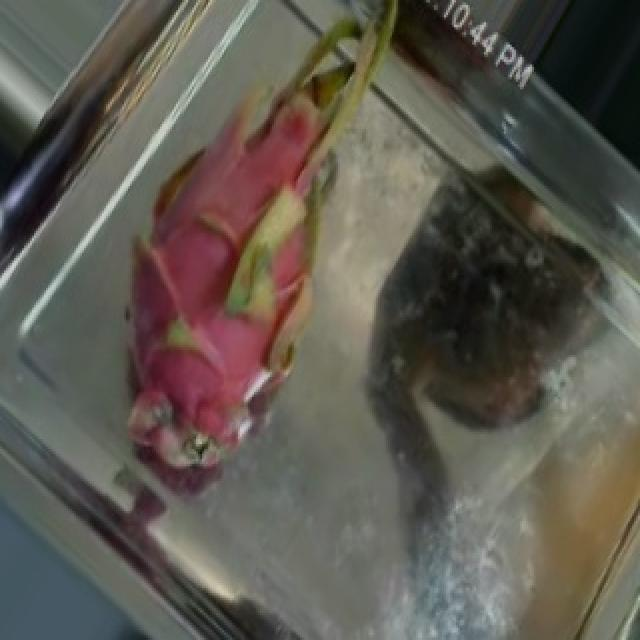fruit: (34, 0, 448, 476)
